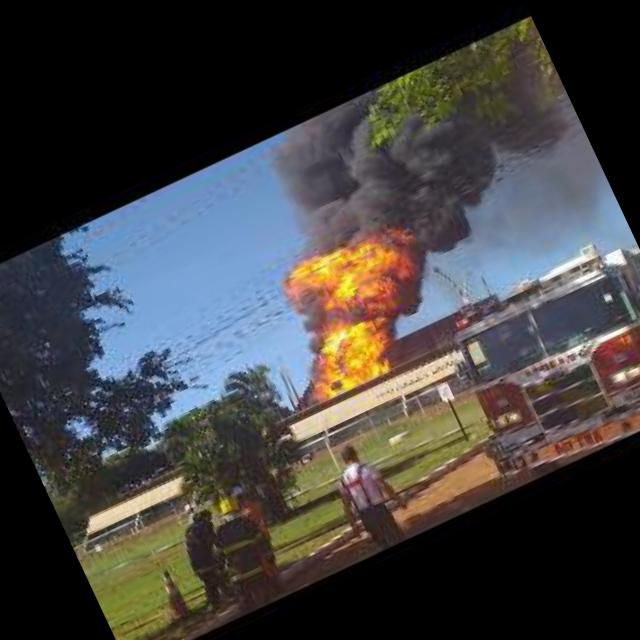fire: (252, 200, 460, 404)
smoke: (245, 55, 502, 282)
